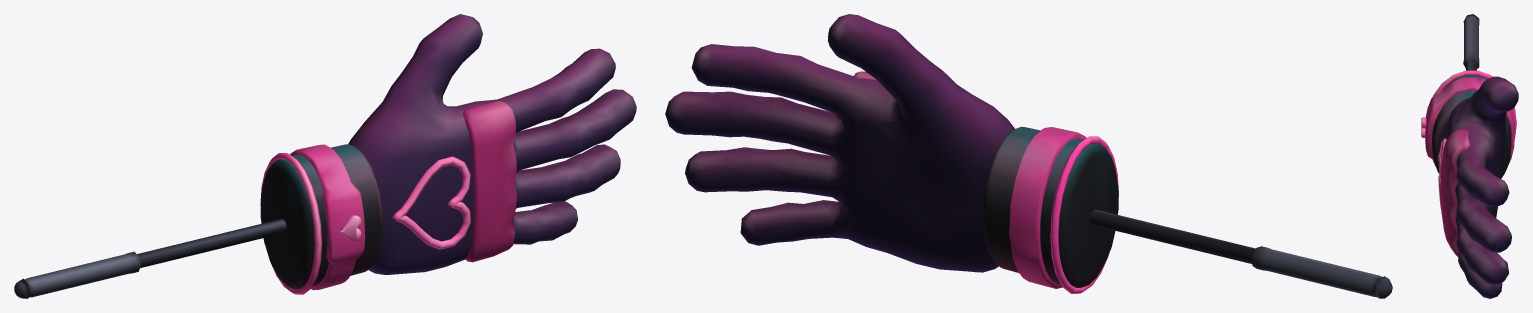
Rendered from glove_love.glb.
3 renders of one model, left to right at view 1: azimuth 30°, elevation 25°; view 2: azimuth 150°, elevation 25°; view 3: azimuth 270°, elevation 25°, orthographic. The views are drawn at different scales.
Visible parts, largest first — view 1: Glove, Stick, Glow; view 2: Glove, Stick, Glow; view 3: Glove, Stick, Glow.
Part boxes in pixels (x1=…): Glove: x1=260, y1=14, x2=636, y2=290; Stick: x1=14, y1=218, x2=286, y2=298; Glow: x1=260, y1=153, x2=471, y2=294; Glove: x1=665, y1=14, x2=1118, y2=288; Stick: x1=1089, y1=209, x2=1392, y2=298; Glow: x1=1050, y1=136, x2=1118, y2=293; Glove: x1=1425, y1=75, x2=1518, y2=298; Stick: x1=1463, y1=14, x2=1479, y2=70; Glow: x1=1421, y1=70, x2=1516, y2=208.
Bounding box in the file's own units: 1.17 × 0.4102 × 0.1997.
